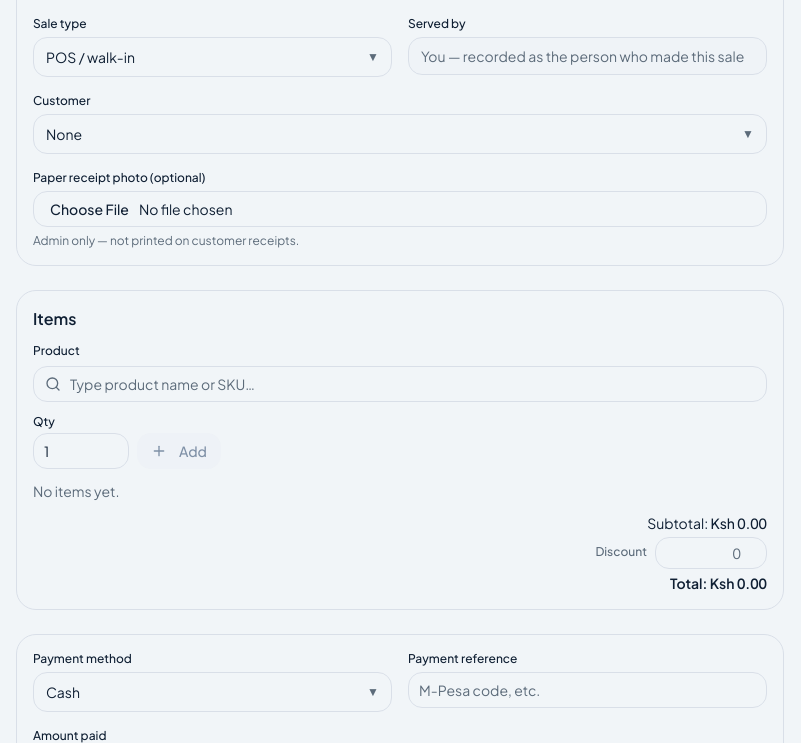
Test: RecordPastSale quantity › adds a product without variants using the qty entered before Add
The width and height of the screenshot is (801, 743).
(page scrolled)
Type "Hook" into the field with placeholder "Type product name or SKU…" at coordinates (400, 384), box left=33, top=366, right=767, bottom=402
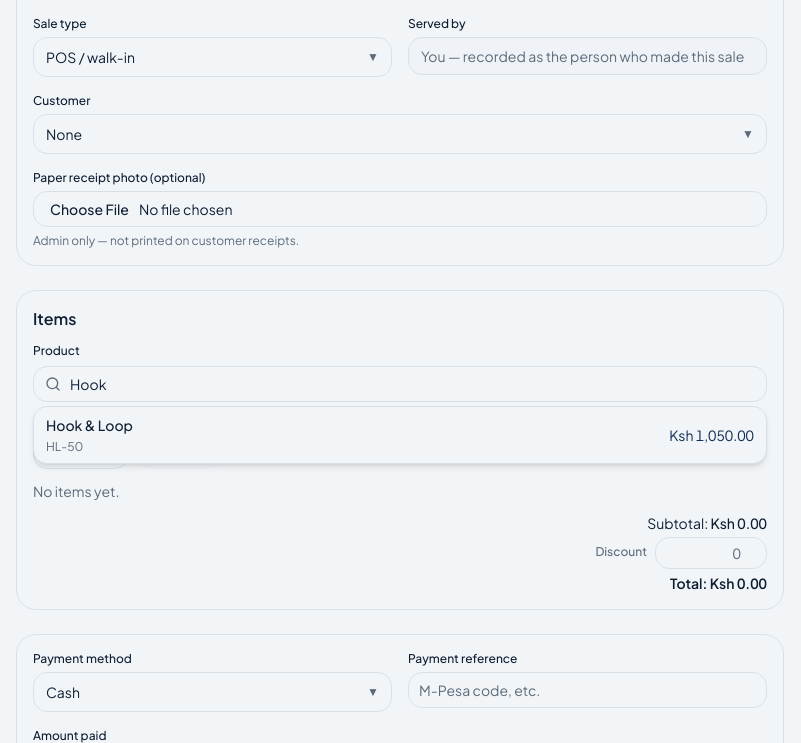
Click the button "Hook & Loop HL-50 Ksh 1,050.00" at coordinates (89, 425), box left=34, top=407, right=766, bottom=463
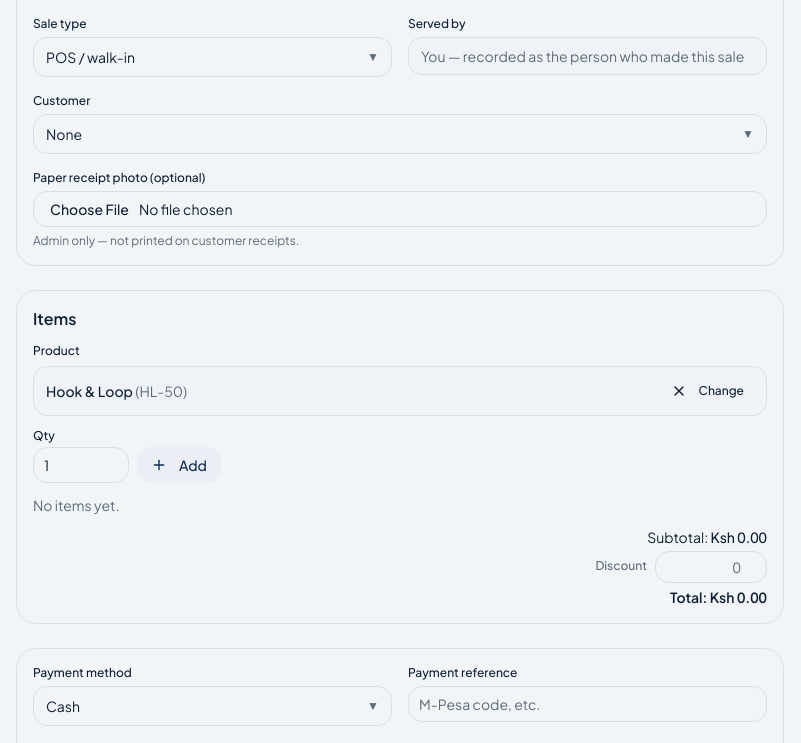
Replace the text in the number field below "Qty" with "5" at coordinates (81, 465), box left=33, top=447, right=129, bottom=483
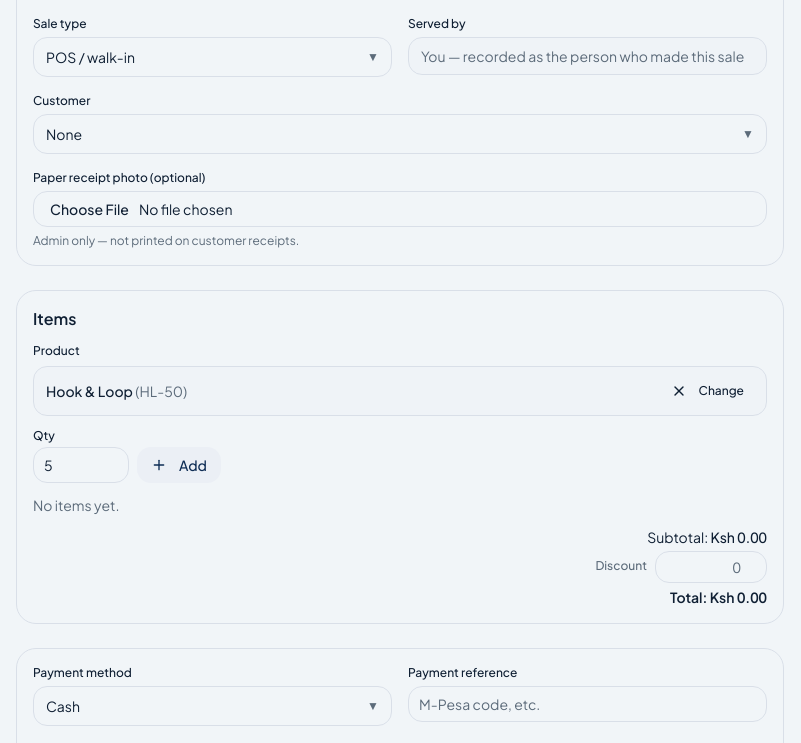
Click the button "Add" at coordinates (179, 465), box left=137, top=447, right=221, bottom=483
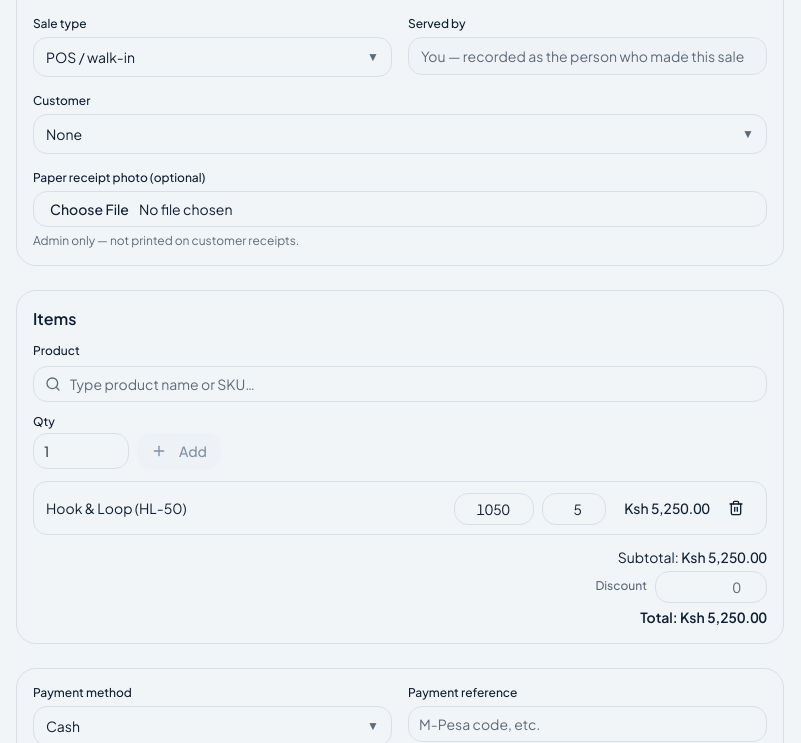
Expected: the text "Subtotal: Ksh 5,250.00" is shown, left=618, top=548, right=767, bottom=566
Now the text "Ksh 5,250.00" in the row of "Hook & Loop (HL-50)" is shown, box left=624, top=499, right=710, bottom=517
Now the number field named "Quantity for Hook & Loop" in the row of "Hook & Loop (HL-50)" holds "5", box left=542, top=493, right=606, bottom=525
